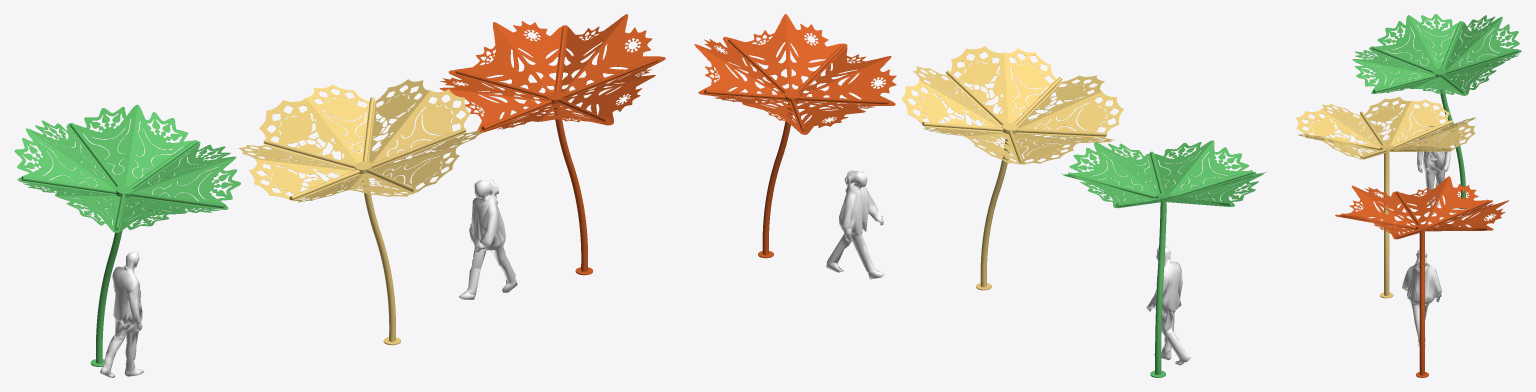
3 views of the same model, side by side, from view 1: azimuth 30°, elevation 25°; view 2: azimuth 150°, elevation 25°; view 3: azimuth 270°, elevation 25° (orthographic). The views are drawn at different scales.
Visible parts, largest first — view 1: shadeB_Up, ShadeC_Up, shadeA_up, girl_walk, Object_008, shadeC_support001, shadeC_support002, shadeC_support, shadeC002, shadeC001, shadeC; view 2: shadeB_Up, shadeA_up, ShadeC_Up, girl_walk, Object_008, shadeC_support001, shadeC_support002, shadeC_support, shadeC, shadeC001, shadeC002; view 3: ShadeC_Up, shadeB_Up, shadeA_up, girl_walk, shadeC_support, Object_008, shadeC_support001, shadeC_support002, shadeC002, shadeC001, shadeC_post002, shadeC (+1 smaller).
Part boxes in pixels (<box>): shadeB_Up: <box>238,79,483,202</box>; ShadeC_Up: <box>14,104,240,232</box>; shadeA_up: <box>439,14,665,132</box>; girl_walk: <box>459,179,517,299</box>; Object_008: <box>100,251,143,377</box>; shadeC_support001: <box>263,97,466,200</box>; shadeC_support002: <box>455,27,658,130</box>; shadeC_support: <box>21,123,224,230</box>; shadeC002: <box>567,165,587,271</box>; shadeC001: <box>375,235,395,341</box>; shadeC: <box>96,258,114,363</box>; shadeB_Up: <box>901,46,1123,164</box>; shadeA_up: <box>694,14,896,134</box>; ShadeC_Up: <box>1061,140,1265,208</box>; girl_walk: <box>826,170,884,279</box>; Object_008: <box>1146,246,1190,365</box>; shadeC_support001: <box>922,70,1106,164</box>; shadeC_support002: <box>704,38,888,132</box>; shadeC_support: <box>1068,151,1253,207</box>; shadeC: <box>1155,268,1163,374</box>; shadeC001: <box>980,190,999,287</box>; shadeC002: <box>762,158,781,255</box>; ShadeC_Up: <box>1352,14,1521,95</box>; shadeB_Up: <box>1296,97,1475,159</box>; shadeA_up: <box>1335,176,1508,239</box>; girl_walk: <box>1402,250,1441,346</box>; shadeC_support: <box>1371,21,1518,94</box>; Object_008: <box>1417,126,1450,214</box>; shadeC_support001: <box>1305,111,1452,159</box>; shadeC_support002: <box>1341,191,1488,238</box>; shadeC002: <box>1419,287,1424,375</box>; shadeC001: <box>1384,207,1389,295</box>; shadeC_post002: <box>1419,231,1424,287</box>; shadeC: <box>1451,130,1465,198</box>.
Bounding box in the file's own units: 9.2 × 3.3 × 3.89.
